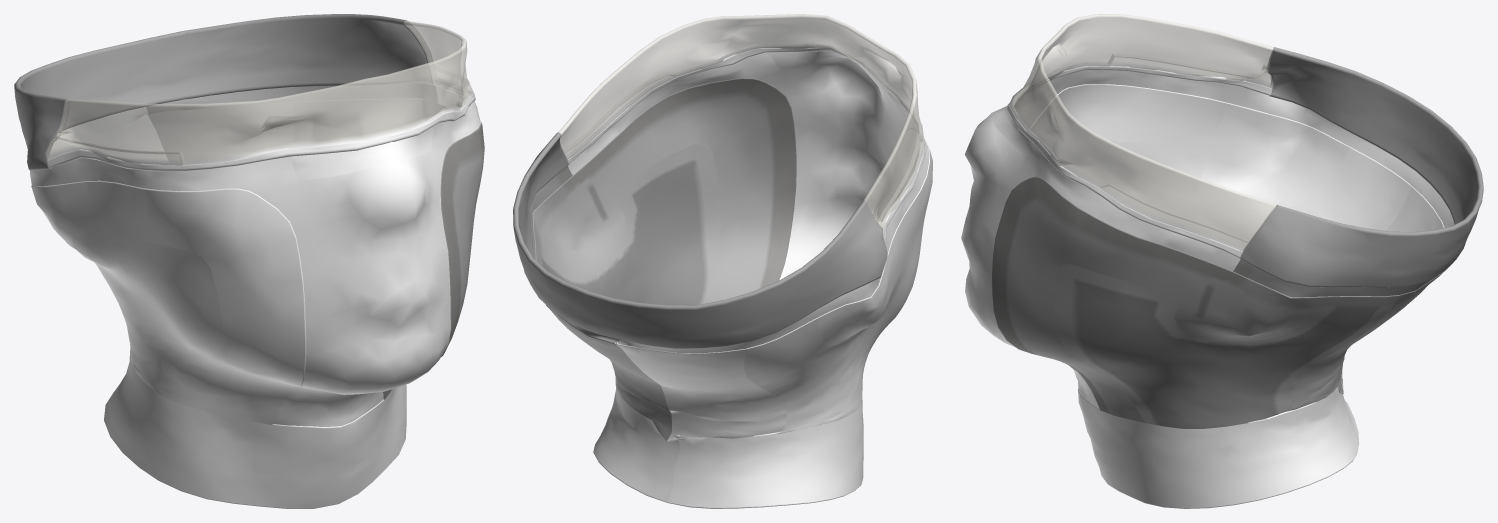
Rendered from NETC0_GLTF.gltf.
3 renders of one model, left to right at view 1: azimuth 30°, elevation 25°; view 2: azimuth 150°, elevation 25°; view 3: azimuth 270°, elevation 25°, orthographic. The views are drawn at different scales.
Visible parts, largest first — view 1: Pattern2D_7360_Node, Pattern2D_14660_Node, Pattern2D_7369_Node, Pattern2D_7357_Node, Pattern2D_14665_Node, Pattern2D_7371_Node, Pattern2D_7373_Node, Pattern2D_7372_Node, Pattern2D_7363_Node, Pattern2D_7368_Node, Pattern2D_14663_Node, Pattern2D_7374_Node (+5 smaller); view 2: Pattern2D_7360_Node, Pattern2D_7372_Node, Pattern2D_14660_Node, Pattern2D_7357_Node, Pattern2D_14665_Node, Pattern2D_7374_Node, Pattern2D_7371_Node, Pattern2D_7375_Node, Pattern2D_7366_Node, Pattern2D_14663_Node, Pattern2D_7373_Node, Pattern2D_7368_Node (+6 smaller); view 3: Pattern2D_7374_Node, Pattern2D_14660_Node, Pattern2D_14665_Node, Pattern2D_7357_Node, Pattern2D_7372_Node, Pattern2D_7360_Node, Pattern2D_7371_Node, Pattern2D_7368_Node, Pattern2D_7369_Node, Pattern2D_7366_Node, Pattern2D_14663_Node, Pattern2D_7365_Node (+6 smaller).
Boxes of the visible parts, x1,y1,x2,y2 form: Pattern2D_7360_Node: (50,86,480,426); Pattern2D_14660_Node: (14,14,433,170); Pattern2D_7369_Node: (86,180,306,424); Pattern2D_7357_Node: (104,354,406,508); Pattern2D_14665_Node: (56,21,469,165); Pattern2D_7371_Node: (95,237,233,410); Pattern2D_7373_Node: (148,102,293,161); Pattern2D_7372_Node: (383,108,484,399); Pattern2D_7363_Node: (146,83,437,113); Pattern2D_7368_Node: (31,181,126,278); Pattern2D_14663_Node: (47,78,475,171); Pattern2D_7374_Node: (294,99,475,228); Pattern2D_7360_Node: (568,52,928,280); Pattern2D_7372_Node: (595,78,796,301); Pattern2D_14660_Node: (513,132,887,348); Pattern2D_7357_Node: (593,378,863,508); Pattern2D_14665_Node: (559,14,923,227); Pattern2D_7374_Node: (535,143,721,305); Pattern2D_7371_Node: (744,214,925,433); Pattern2D_7375_Node: (615,342,786,441); Pattern2D_7366_Node: (532,156,626,271); Pattern2D_14663_Node: (566,44,924,248); Pattern2D_7373_Node: (546,305,671,442); Pattern2D_7368_Node: (817,242,895,346); Pattern2D_7374_Node: (1054,263,1399,428); Pattern2D_14660_Node: (1239,47,1483,287); Pattern2D_14665_Node: (1010,14,1276,242); Pattern2D_7357_Node: (1078,372,1359,508); Pattern2D_7372_Node: (992,176,1200,422); Pattern2D_7360_Node: (961,70,1270,407); Pattern2D_7371_Node: (1080,141,1412,248); Pattern2D_7368_Node: (1198,103,1349,209); Pattern2D_7369_Node: (1029,84,1229,173); Pattern2D_7366_Node: (1174,259,1330,341); Pattern2D_14663_Node: (1007,63,1272,257); Pattern2D_7365_Node: (1268,96,1454,227).
Size of the model in its own units: 0.1807 by 0.1972 by 0.2247.
Materials: 10 (6 with a texture image).
